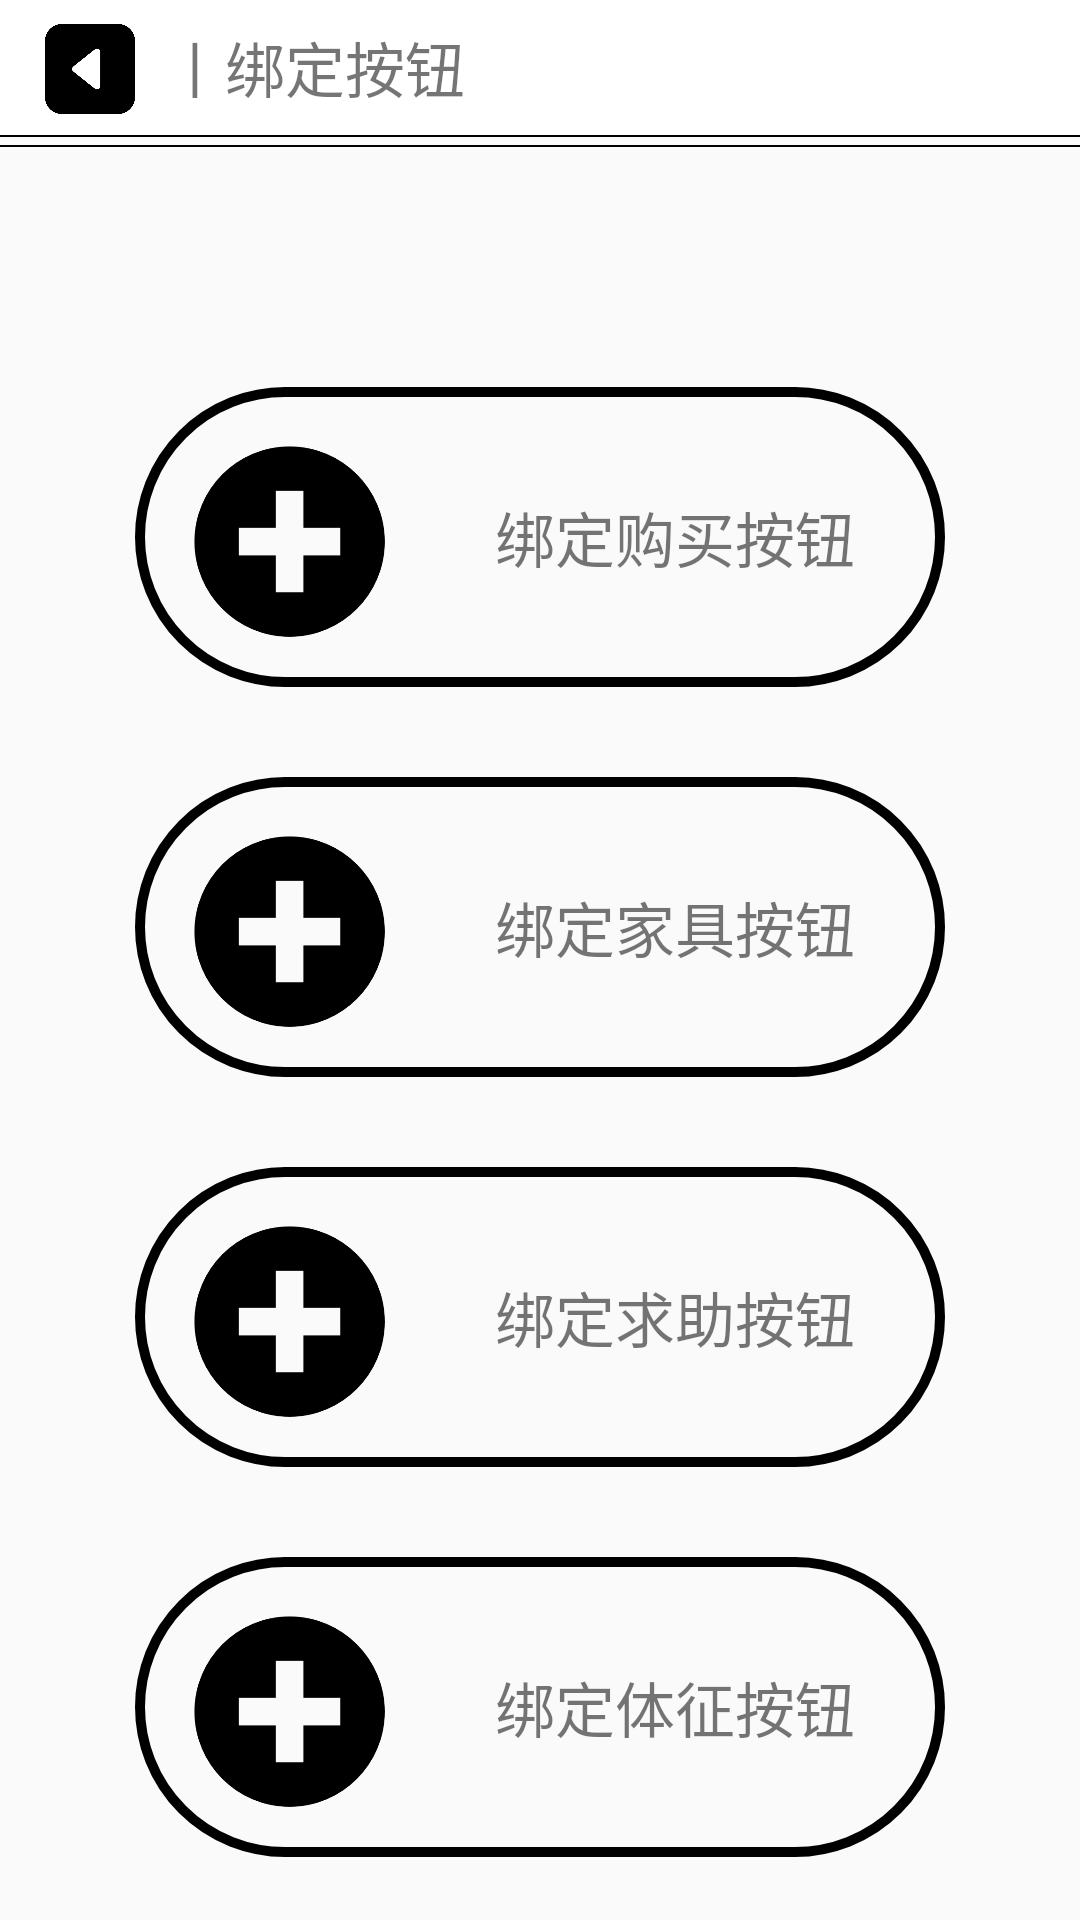

Locate icon controls on the screen. Image size 1080x1920, boxes as (x1, y1, x2, y2).
back: (45, 24, 135, 114)
plus: (194, 446, 385, 637), (194, 836, 385, 1027), (194, 1226, 385, 1417), (194, 1616, 385, 1807)
